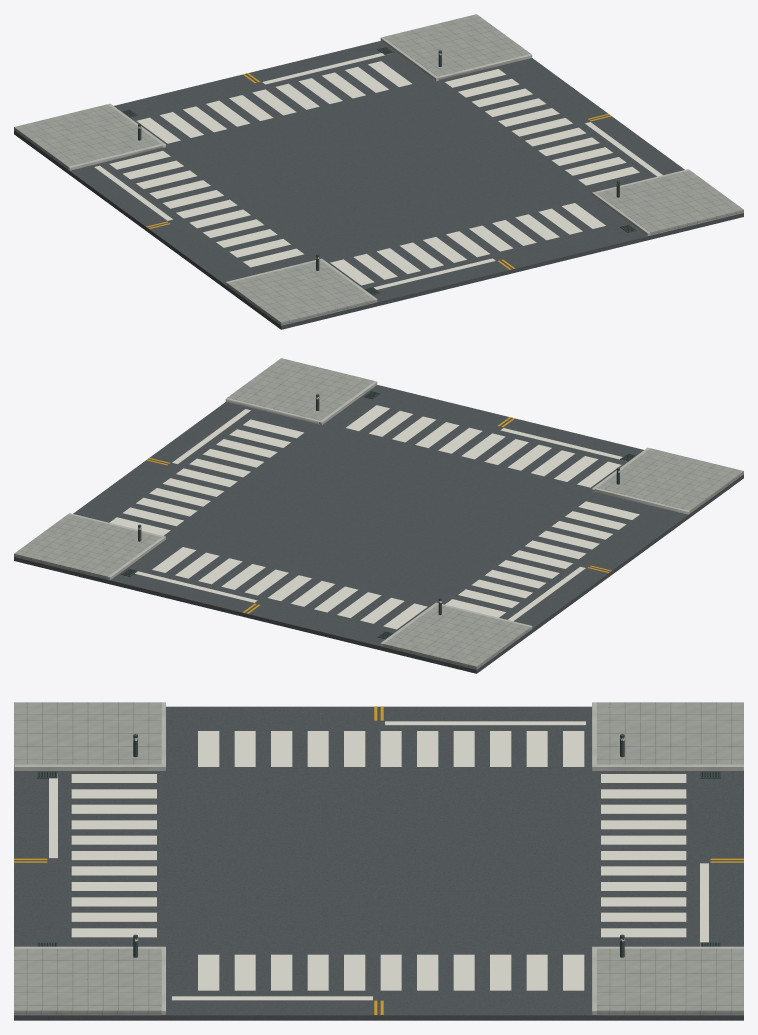
Rendered from road-intersection.glb.
3 views of the same model, one above another, from view 1: azimuth 30°, elevation 25°; view 2: azimuth 150°, elevation 25°; view 3: azimuth 270°, elevation 25° (orthographic). The views are drawn at different scales.
Parts seen in each view (by area): view 1: road-intersection_bituminous-asphalt, road-intersection_off-white-painted, road-intersection_concrete-pavers, road-intersection_light-precast-concrete, road-intersection_powder-coated-frame; view 2: road-intersection_bituminous-asphalt, road-intersection_off-white-painted, road-intersection_concrete-pavers, road-intersection_light-precast-concrete, road-intersection_powder-coated-frame; view 3: road-intersection_bituminous-asphalt, road-intersection_off-white-painted, road-intersection_concrete-pavers, road-intersection_light-precast-concrete, road-intersection_powder-coated-frame, road-intersection_safety-yellow.
Part boxes in pixels (x1,y1,x2,y2): road-intersection_bituminous-asphalt: (14, 41, 743, 329); road-intersection_off-white-painted: (94, 53, 662, 289); road-intersection_concrete-pavers: (14, 14, 743, 325); road-intersection_light-precast-concrete: (68, 37, 689, 302); road-intersection_powder-coated-frame: (121, 47, 636, 295); road-intersection_bituminous-asphalt: (14, 385, 743, 673); road-intersection_off-white-painted: (109, 397, 639, 629); road-intersection_concrete-pavers: (14, 358, 743, 669); road-intersection_light-precast-concrete: (68, 381, 689, 646); road-intersection_powder-coated-frame: (121, 391, 636, 639); road-intersection_bituminous-asphalt: (14, 706, 743, 1020); road-intersection_off-white-painted: (49, 721, 708, 1000); road-intersection_concrete-pavers: (14, 702, 743, 1015); road-intersection_light-precast-concrete: (14, 702, 743, 1014); road-intersection_powder-coated-frame: (37, 734, 720, 957); road-intersection_safety-yellow: (14, 706, 743, 1014).
Size of the model in its own units: 24 by 1.13 by 24.
8 materials, 4 textured.
